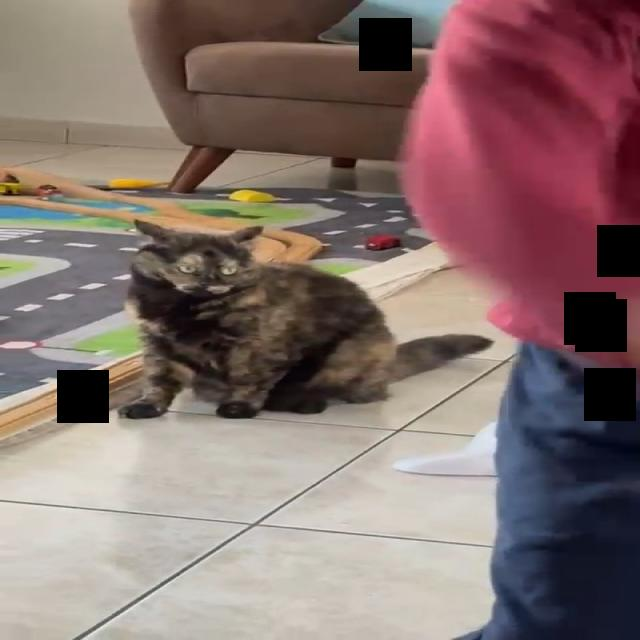authorized: (118, 218, 494, 420)
